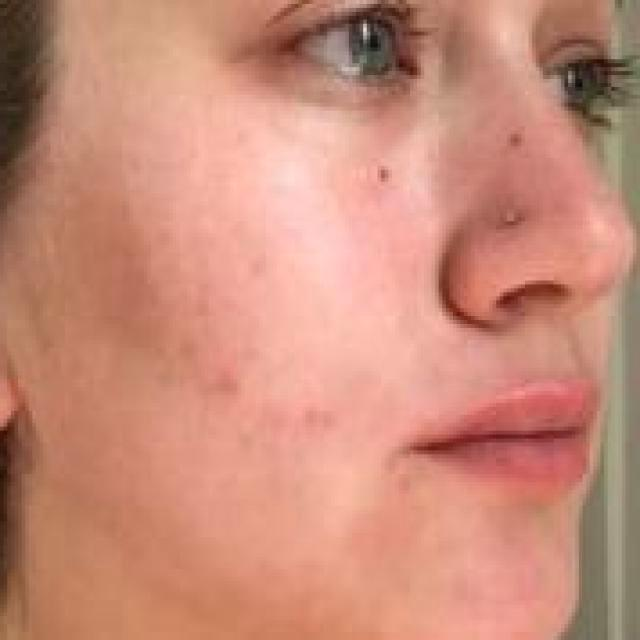Pimples: (201, 363, 248, 403), (294, 406, 342, 438), (503, 202, 525, 230), (374, 154, 392, 178), (511, 130, 522, 146)
